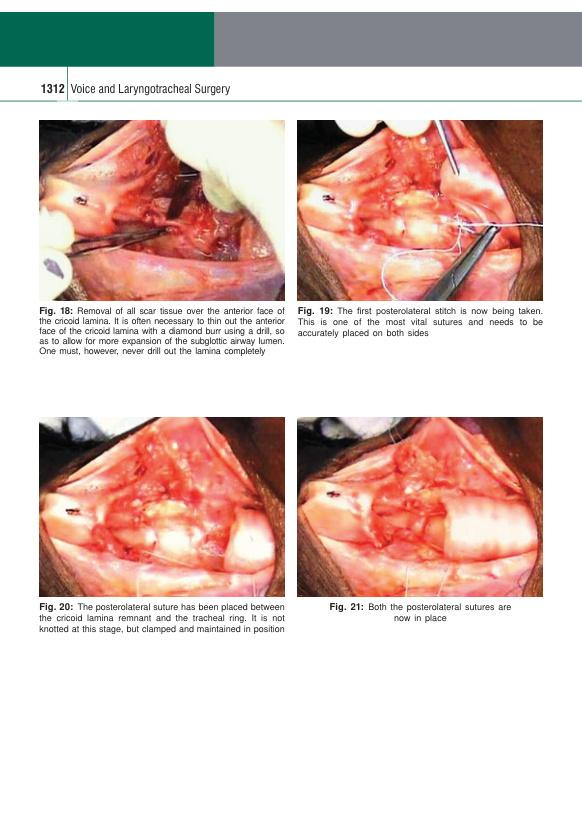caption: (38, 304, 286, 358), (38, 600, 287, 636), (296, 305, 545, 340), (329, 601, 514, 624)
header: (69, 82, 231, 96)
image: (38, 119, 286, 302), (296, 118, 544, 301), (297, 416, 544, 598), (39, 416, 285, 597)
